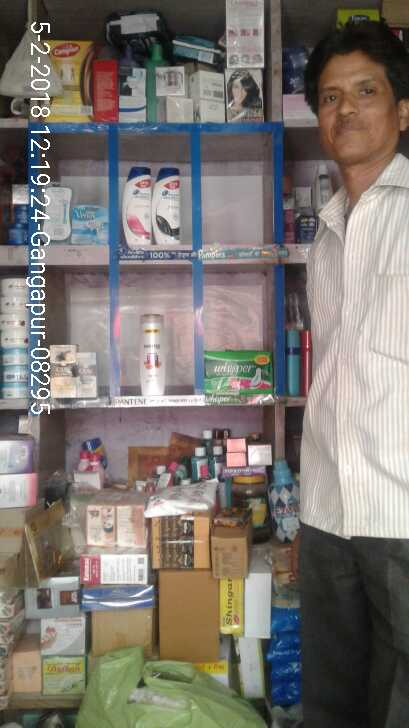venus: (71, 207, 108, 247), (44, 181, 69, 240)
